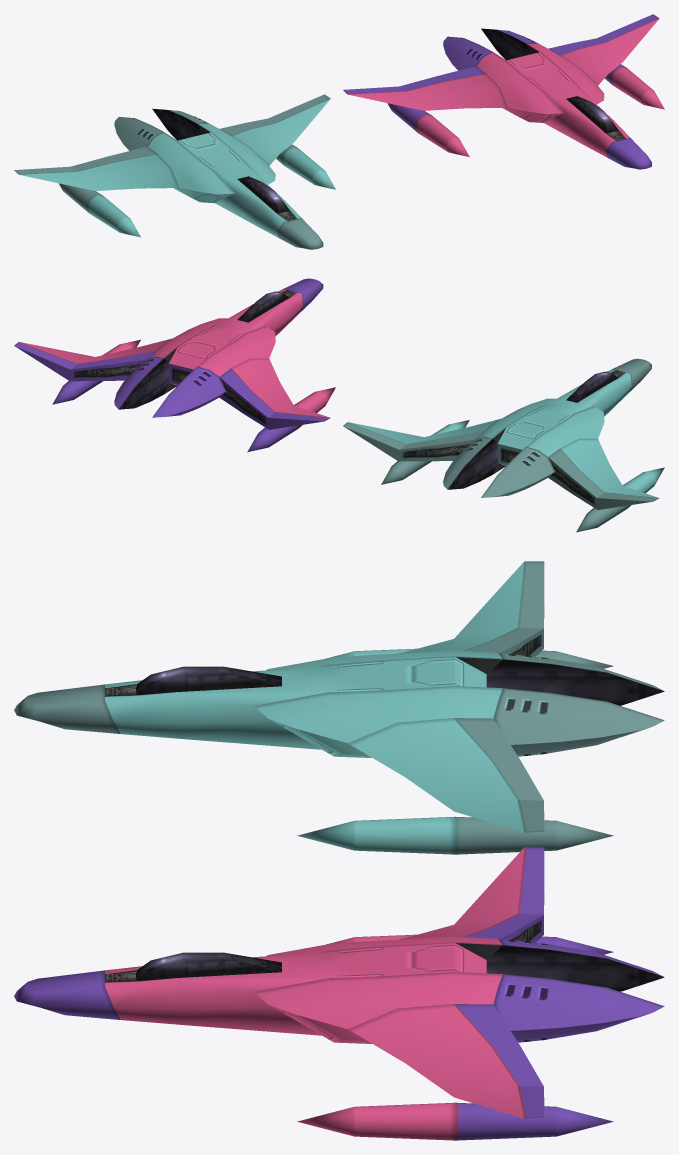
Rendered from M03_ZAKO02_S_type.fbx.
The picture shows the model from 3 angles, top to bottom: view 1: azimuth 30°, elevation 25°; view 2: azimuth 150°, elevation 25°; view 3: azimuth 270°, elevation 25°; orthographic projection. The views are drawn at different scales.
Parts seen in each view (by area): view 1: body (×2); view 2: body (×2); view 3: body (×2).
Boxes of the visible parts, left/top/right/bottom form: body (×2): left=14, top=14, right=664, bottom=249; body (×2): left=14, top=278, right=664, bottom=532; body (×2): left=14, top=561, right=664, bottom=1140.
Bounding box in the file's own units: 12.94 × 1.08 × 6.39.
